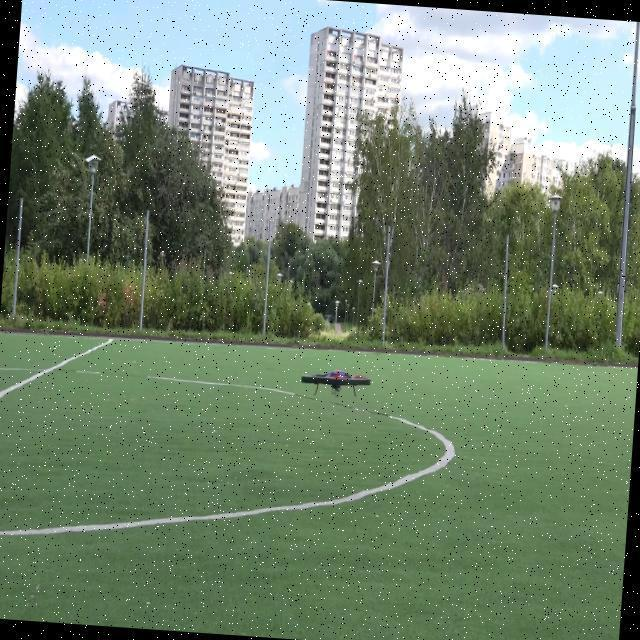Drons: (295, 358, 375, 406)
